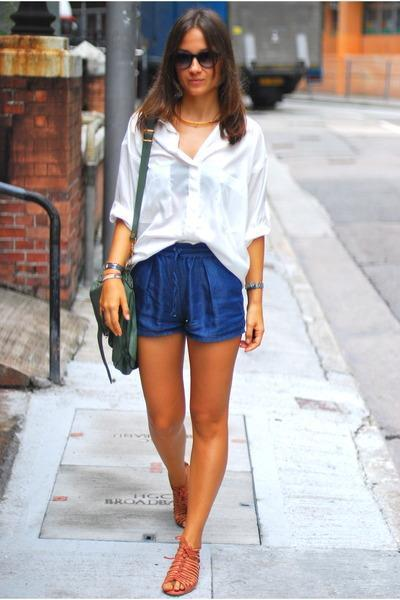bag: (91, 132, 155, 382)
shirt: (110, 112, 276, 275)
shoe: (162, 473, 200, 596)
shorts: (132, 241, 251, 342)
